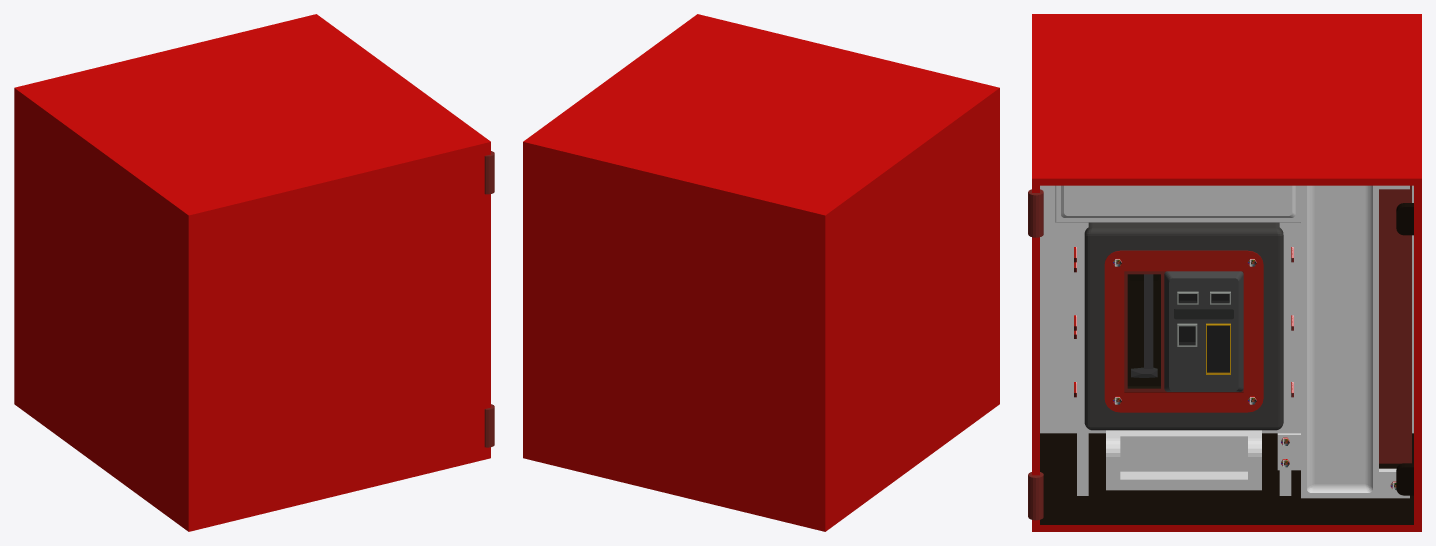
Rendered from CircuitBreakerHeavy_BuildState1.fbx.
3 views of the same model, side by side, from view 1: azimuth 30°, elevation 25°; view 2: azimuth 150°, elevation 25°; view 3: azimuth 270°, elevation 25° (orthographic). The views are drawn at different scales.
Parts seen in each view (by area): view 1: HeavyBreaker_BuildState1; view 2: HeavyBreaker_BuildState1; view 3: HeavyBreaker_BuildState1.
Boxes of the visible parts, box(x1,y1,x2,y2) form: HeavyBreaker_BuildState1: box(14, 14, 494, 531); HeavyBreaker_BuildState1: box(523, 14, 999, 531); HeavyBreaker_BuildState1: box(1028, 14, 1421, 531).
Bounding box in the file's own units: 101 × 100 × 102.
